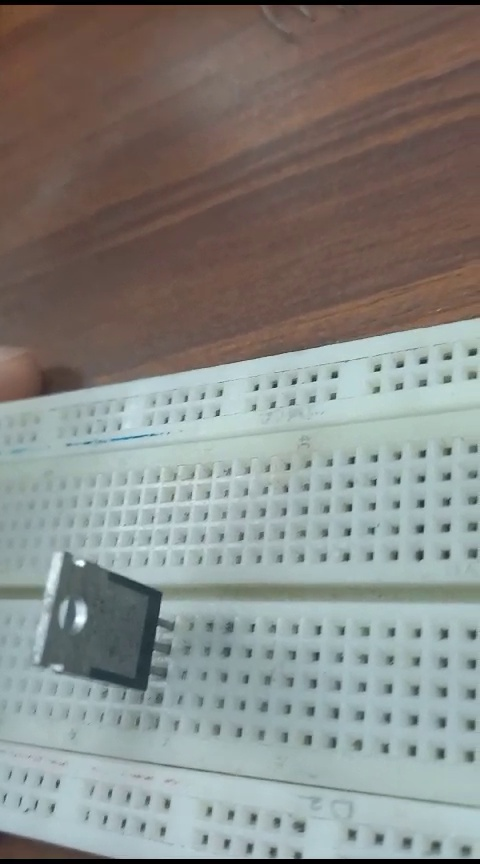voltage regulator: (24, 537, 169, 705)
